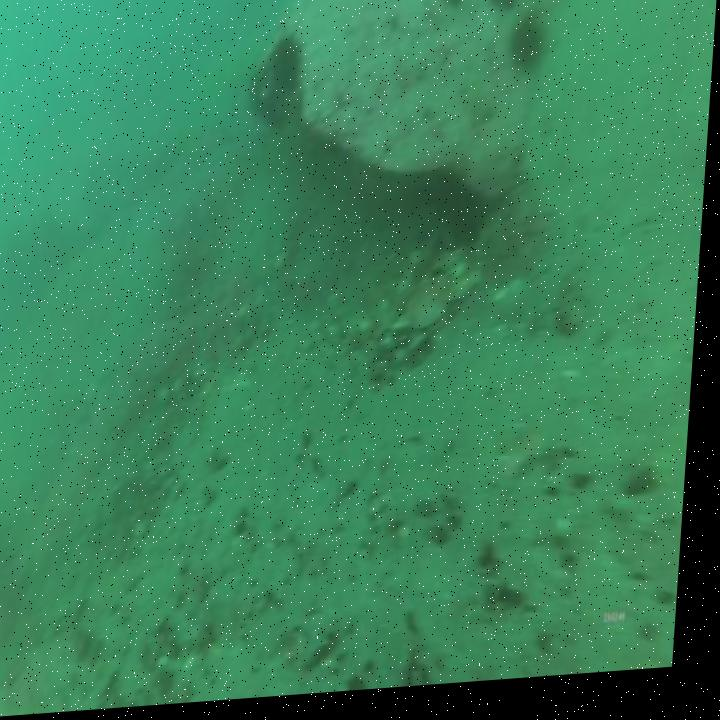echinus: (272, 44, 304, 98), (514, 29, 542, 73), (492, 0, 521, 17), (444, 0, 466, 13)
